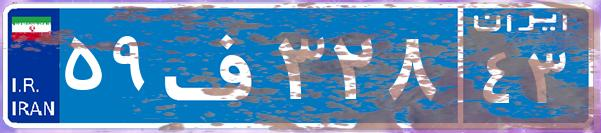2: (330, 28, 385, 110)
3: (273, 28, 330, 110), (525, 38, 570, 115)
4: (475, 38, 525, 113)
5: (57, 26, 110, 107)
8: (385, 28, 445, 110)
9: (110, 28, 158, 105)
ف: (158, 15, 273, 115)
